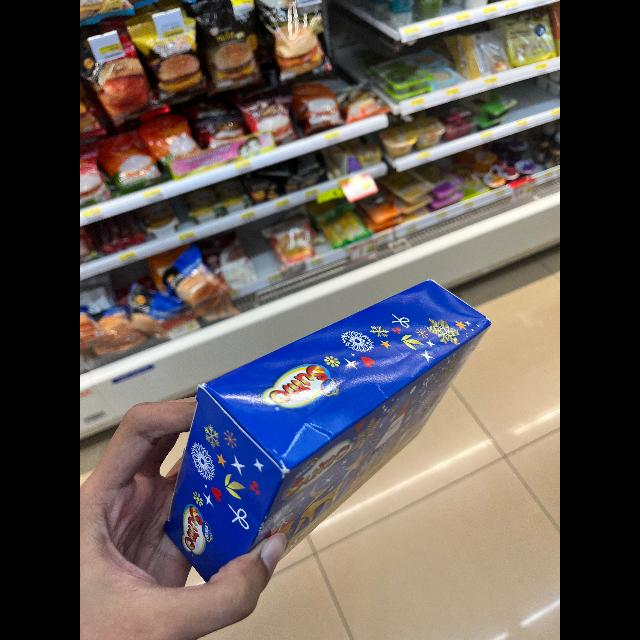cardboard_box: (170, 258, 502, 582)
